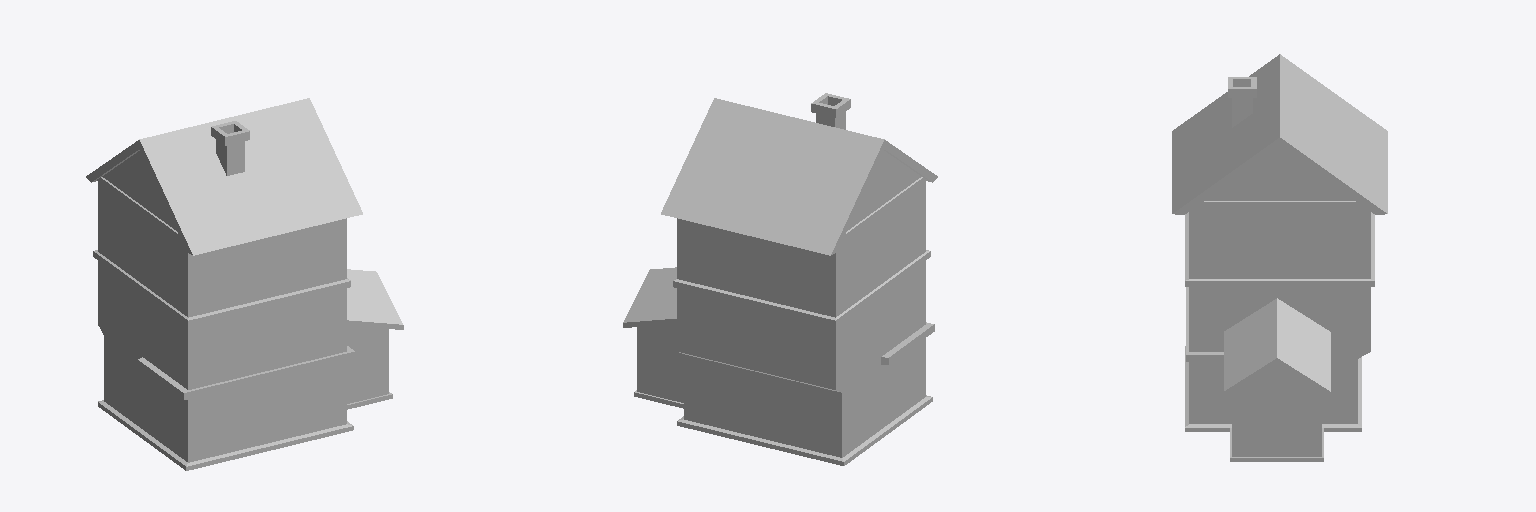
The model's file is house_11.obj.
The picture shows the model from 3 angles: view 1: azimuth 30°, elevation 25°; view 2: azimuth 150°, elevation 25°; view 3: azimuth 270°, elevation 25°; orthographic projection.
Visible parts, largest first — view 1: Cube.124_Cube.159; view 2: Cube.124_Cube.159; view 3: Cube.124_Cube.159.
Boxes of the visible parts, <box> form: Cube.124_Cube.159: <box>86,98,403,470</box>; Cube.124_Cube.159: <box>623,93,937,465</box>; Cube.124_Cube.159: <box>1172,54,1387,461</box>.
Size of the model in its own units: 9.83 by 11.93 by 7.69.